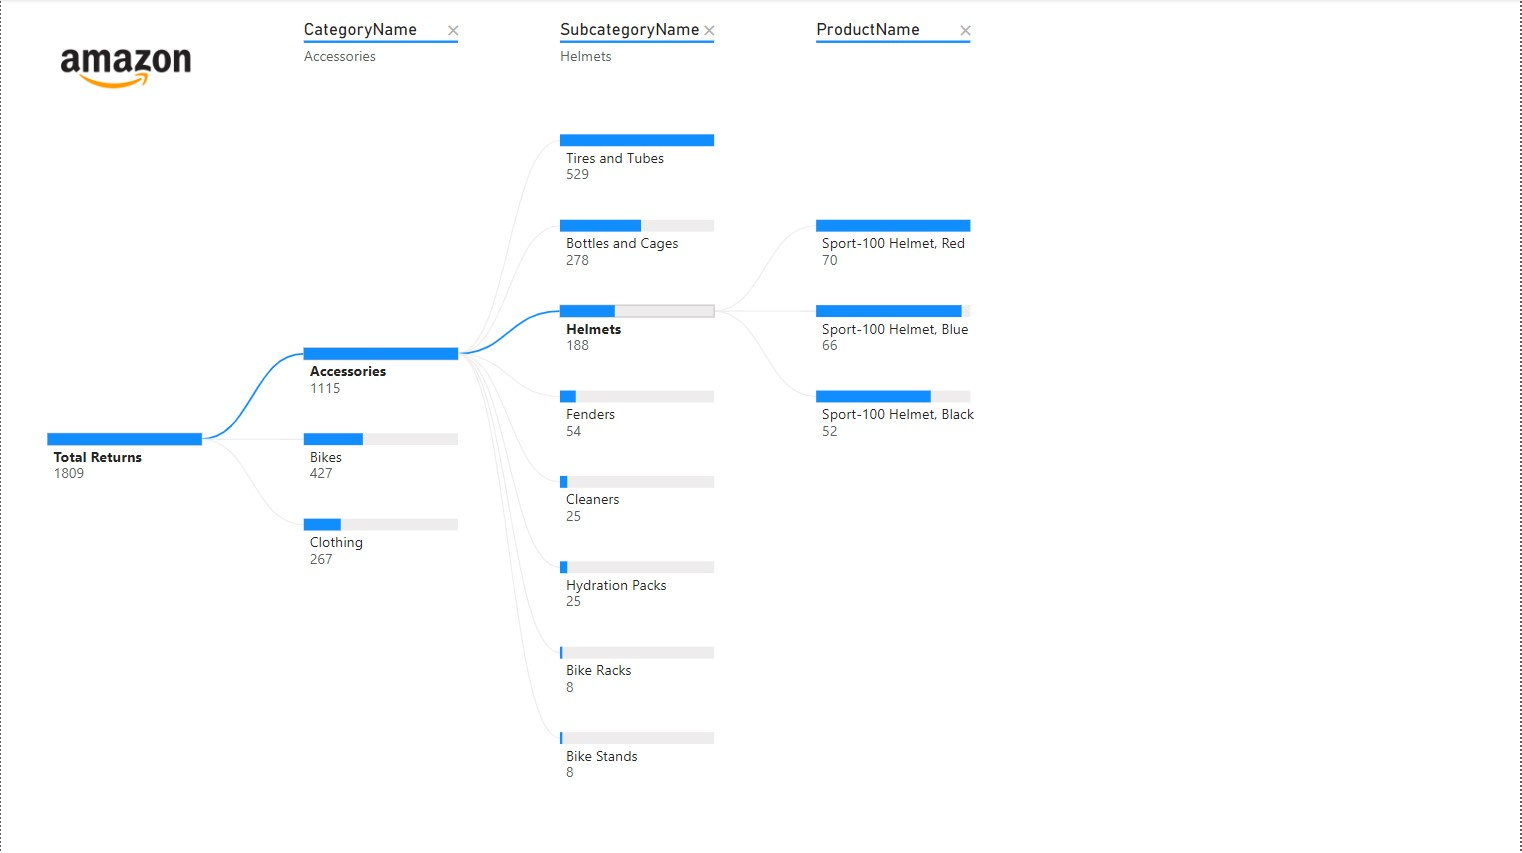

The page's visual inventory and layout, read from the dashboard file:
{"tool":"powerbi","page":{"name":"Decomposition Tree","canvas":[1280,720],"ordinal":6},"visuals":[{"type":"decompositionTreeVisual","fields":{"ExplainBy":["Product Categories Lookup.CategoryName","Product Subcategories Lookup.SubcategoryName","Product Lookup.ProductName"],"Analyze":["Measures Collection.Total Returns"]},"box":[9.6,0,1270.4,720.2],"z":0},{"type":"image","title":"Amazon Logo","box":[0,0,208,119],"z":1000}]}

Visuals, with their boxes in screenshot pixels (x1, y1, x2, y2), scaled from the page's 1280x720 canvas onto the 1522x853 screenshot:
decompositionTreeVisual - Product Categories Lookup.CategoryName x Product Subcategories Lookup.SubcategoryName: Rect(11, 0, 1521, 852)
"Amazon Logo" image: Rect(0, 0, 247, 141)
